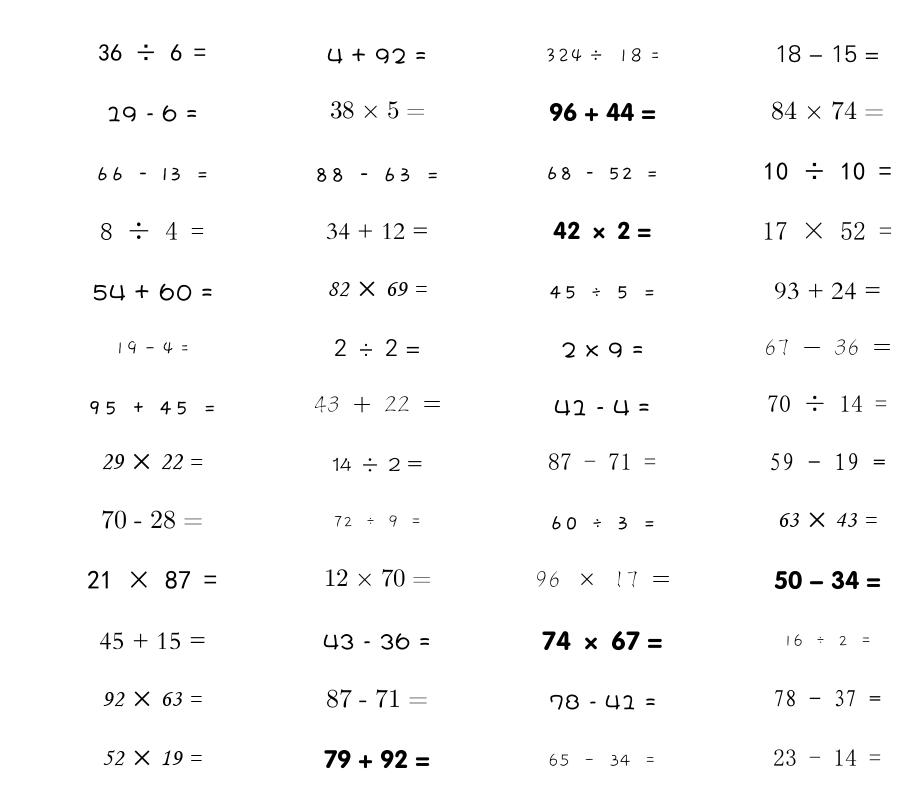MQ: (762, 221, 892, 240), (87, 570, 217, 589), (763, 162, 892, 181), (542, 631, 663, 651), (535, 571, 670, 588), (314, 395, 441, 413), (92, 283, 213, 301), (764, 339, 891, 356), (771, 101, 884, 120), (549, 102, 656, 122), (774, 570, 881, 590), (324, 749, 430, 769), (769, 453, 886, 471), (767, 395, 887, 412), (773, 689, 881, 707), (101, 510, 203, 529), (326, 689, 428, 708), (774, 282, 881, 300), (324, 569, 431, 587), (99, 632, 206, 650), (775, 45, 880, 63), (314, 167, 440, 182), (100, 222, 204, 240), (553, 221, 651, 240), (98, 44, 206, 61), (548, 453, 656, 470), (323, 633, 431, 650), (773, 749, 881, 766), (87, 401, 217, 415), (326, 223, 429, 240), (544, 48, 660, 63), (101, 453, 203, 470), (549, 694, 656, 710), (330, 101, 425, 119), (554, 399, 650, 416), (327, 48, 427, 64), (327, 281, 427, 297), (777, 512, 877, 528), (102, 691, 202, 707), (102, 750, 202, 766), (95, 167, 209, 181), (545, 166, 659, 180), (106, 105, 198, 122), (548, 753, 657, 767), (548, 285, 656, 299), (549, 516, 656, 530), (334, 339, 421, 356), (332, 457, 422, 472), (561, 342, 644, 358), (333, 515, 422, 528), (783, 634, 872, 647), (114, 341, 190, 355)
